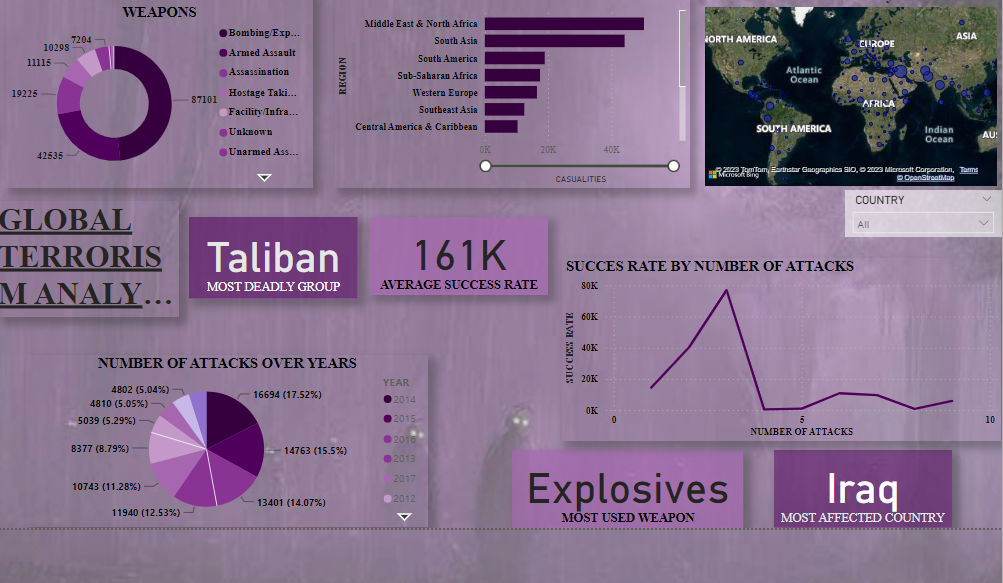

The page's visual inventory and layout, read from the dashboard file:
{"tool":"powerbi","page":{"name":"GLOBAL TERRORISM ANALYSIS","canvas":[1280,720],"ordinal":0},"visuals":[{"type":"pieChart","title":" NUMBER OF ATTACKS OVER YEARS","fields":{"Category":["Terrorism.YEAR"],"Y":["CountNonNull(Terrorism.NUMBER OF ATTACKS)"]},"box":[35.7,499.3,513.3,219.1],"z":0},{"type":"donutChart","title":"TRENDS IN ATTACKS TYPES AND WEAPONS","fields":{"Category":["Terrorism.ATTACK TYPE"],"Y":["CountNonNull(Terrorism.WEAPON TYPE)"]},"box":[10.2,29.3,391,257.3],"z":1000},{"type":"barChart","title":"CASUALITIES COMPARISON ","fields":{"Category":["Terrorism.REGION"],"Y":["CountNonNull(Terrorism.CASUALITIES)"]},"box":[429.2,26.7,452.1,259.8],"z":2000},{"type":"card","fields":{"Values":["Min(Terrorism.GROUP NAME)"]},"box":[243.3,323.5,215.2,104.4],"z":3000},{"type":"card","fields":{"Values":["Min(Terrorism.WEAPON TYPE)"]},"box":[655.9,620.3,295.5,99.3],"z":4000},{"type":"card","fields":{"Values":["Min(Terrorism.NATIONALITY)"]},"box":[989.6,620.3,226.7,99.3],"z":5000},{"type":"actionButton","title":"GLOBAL TERRORISM ANALYSIS","box":[0,303.1,230.5,147.7],"z":6000},{"type":"card","fields":{"Values":["Sum(Terrorism.SUCCESS RATE)"]},"box":[473.8,323.5,226.7,99.3],"z":7000},{"type":"lineChart","title":"SUCCES RATE BY NUMBER OF ATTACKS","fields":{"Y":["Sum(Terrorism.SUCCESS RATE)"],"Category":["Terrorism.NUMBER OF ATTACKS"]},"box":[719.6,375.7,560.4,233.1],"z":8000},{"type":"map","fields":{"Category":["Terrorism.COUNTRY"],"Size":["Sum(Terrorism.SUCCESS RATE)"]},"box":[896.6,29.3,383.4,259.8],"z":9000},{"type":"slicer","fields":{"Values":["Terrorism.COUNTRY"]},"box":[1080,289.1,200,59.9],"z":10000}]}

Visuals, with their boxes on the page's 1280x720 design canvas (x1, y1, x2, y2). These are canvas units, not pixel positions in the 1003x583 screenshot, which may show the page scaled, cropped or inside an application window:
" NUMBER OF ATTACKS OVER YEARS" pieChart: <bbox>36, 499, 549, 718</bbox>
"TRENDS IN ATTACKS TYPES AND WEAPONS" donutChart: <bbox>10, 29, 401, 287</bbox>
"CASUALITIES COMPARISON " barChart: <bbox>429, 27, 881, 286</bbox>
card - Min(Terrorism.GROUP NAME): <bbox>243, 324, 458, 428</bbox>
card - Min(Terrorism.WEAPON TYPE): <bbox>656, 620, 951, 720</bbox>
card - Min(Terrorism.NATIONALITY): <bbox>990, 620, 1216, 720</bbox>
"GLOBAL TERRORISM ANALYSIS" actionButton: <bbox>0, 303, 230, 451</bbox>
card - Sum(Terrorism.SUCCESS RATE): <bbox>474, 324, 700, 423</bbox>
"SUCCES RATE BY NUMBER OF ATTACKS" lineChart: <bbox>720, 376, 1280, 609</bbox>
map - Terrorism.COUNTRY x Sum(Terrorism.SUCCESS RATE): <bbox>897, 29, 1280, 289</bbox>
slicer - Terrorism.COUNTRY: <bbox>1080, 289, 1280, 349</bbox>
